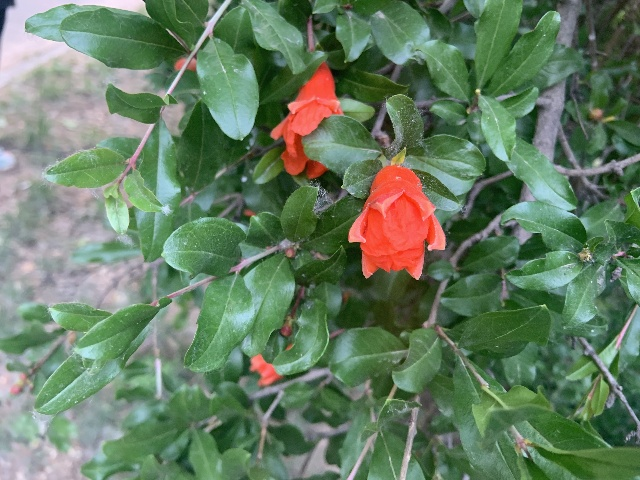flower: (347, 164, 445, 280), (269, 60, 343, 179), (249, 343, 293, 385)
